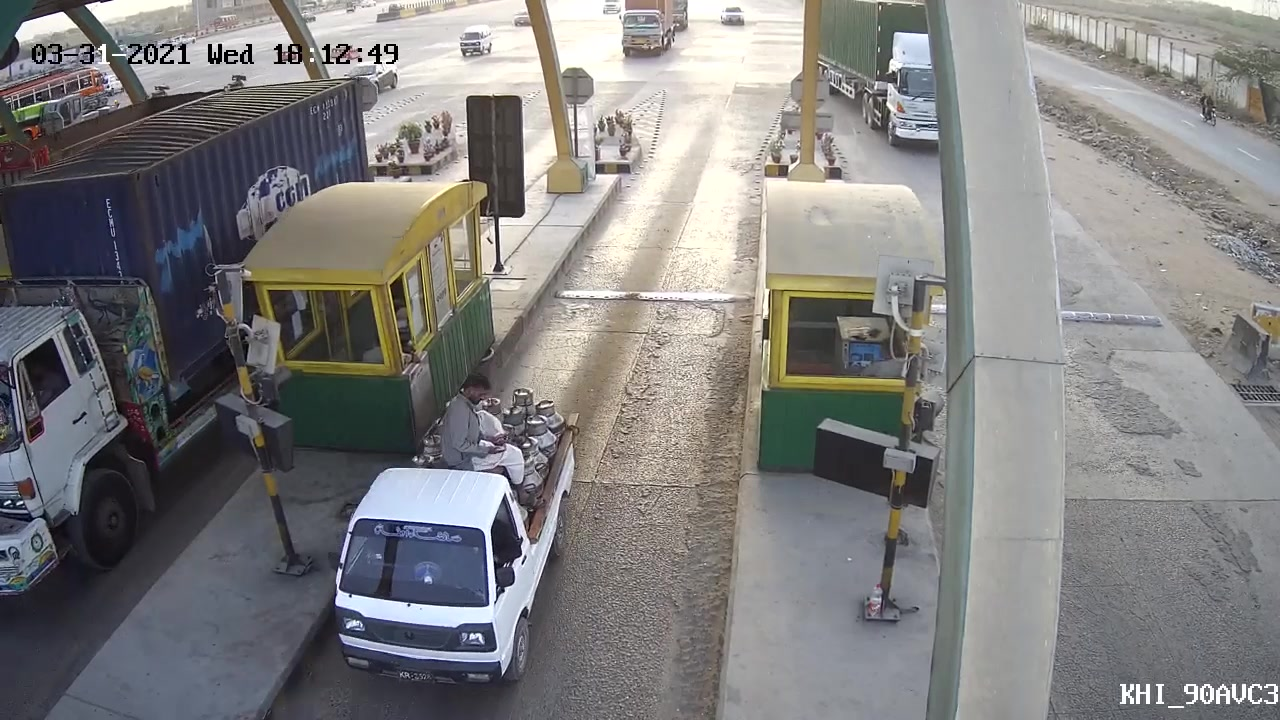F1: (322, 375, 583, 689)
